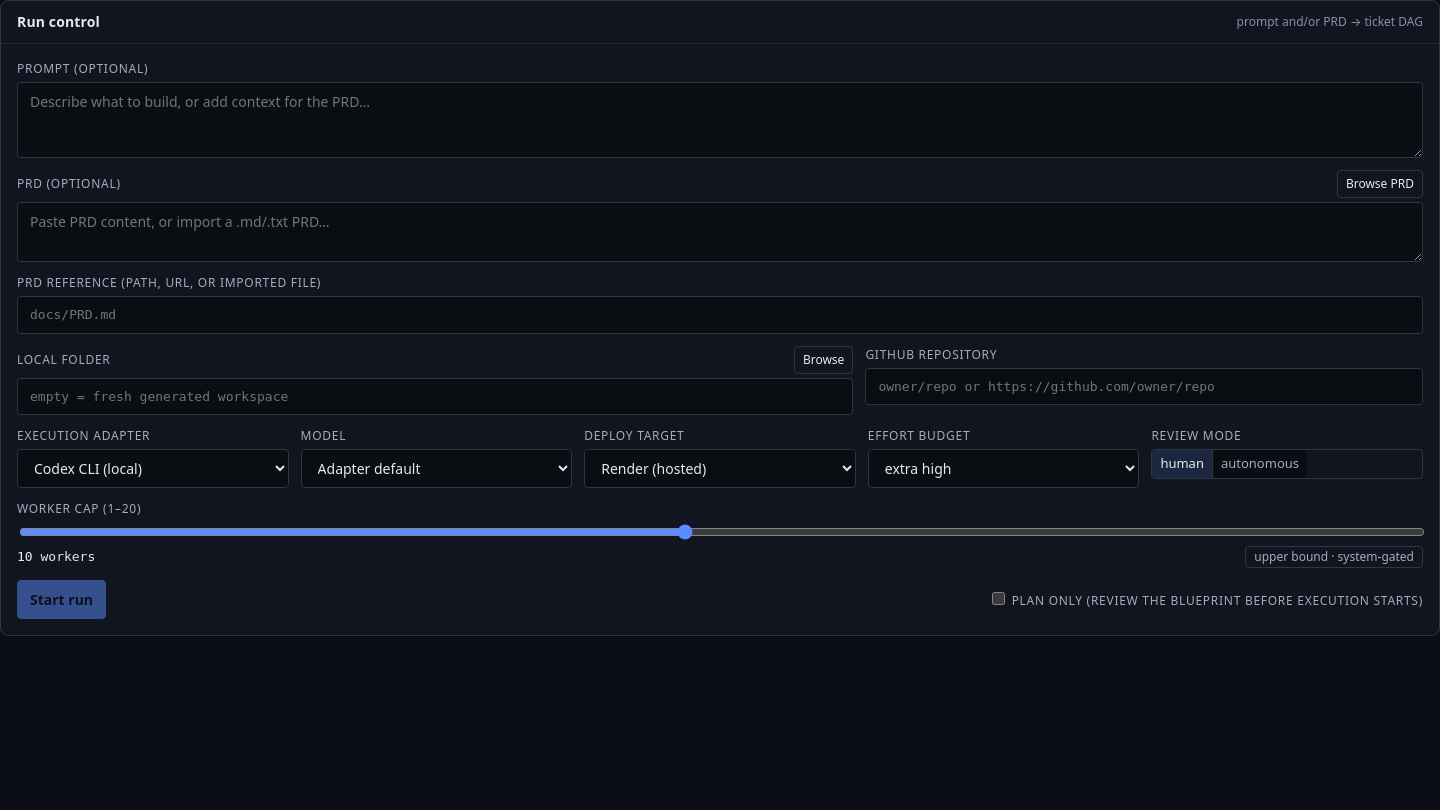
it: RunControl › blocks Start when the local folder is outside the workspace boundary
Type "build the study app" into the text box labelled "Prompt (optional)" at (720, 120), box [17,82,1423,158]
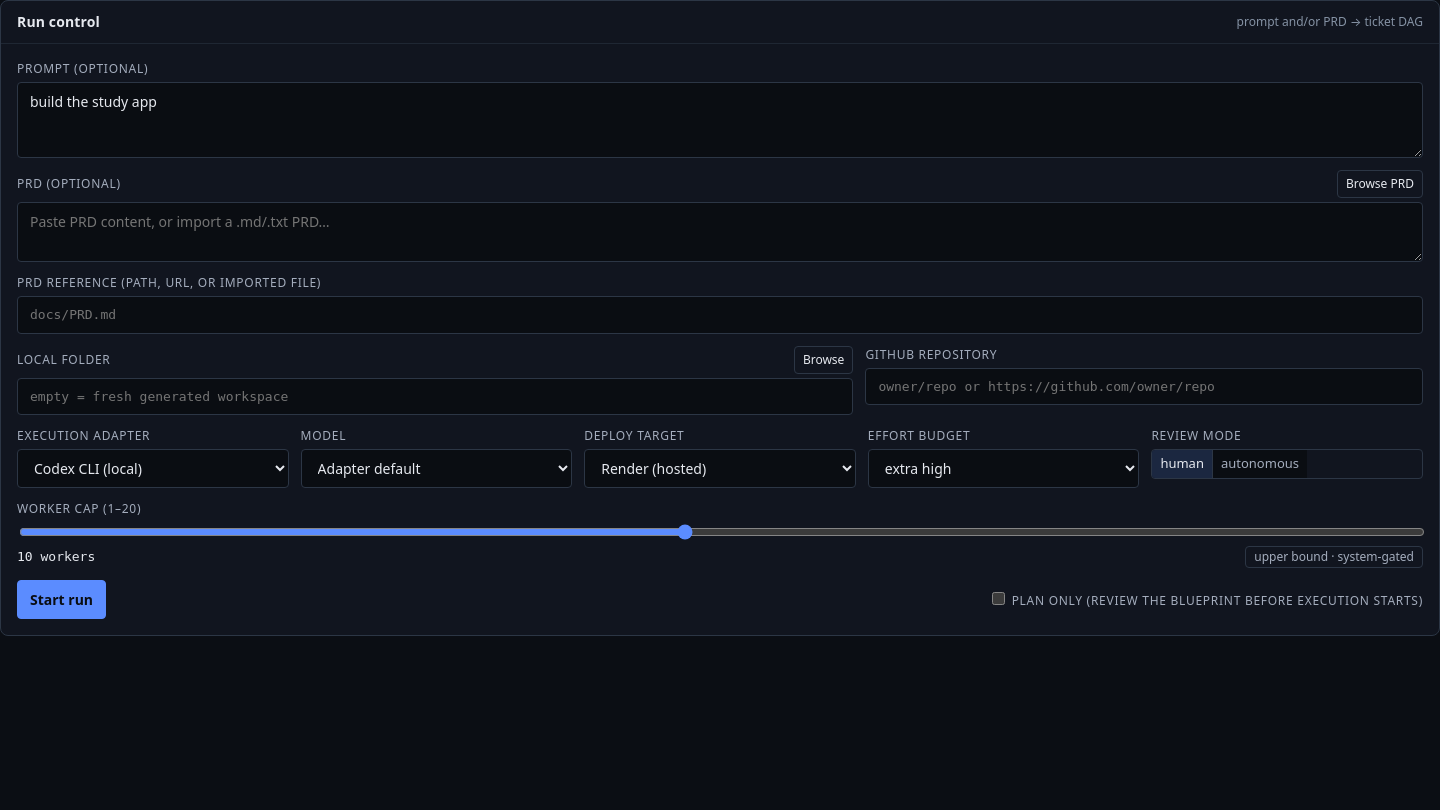
Type "C:\\Users\\op\\Documents\\GitLab\\Gaunt" into the field labelled "Local folder" at (435, 396), box [17,378,853,415]
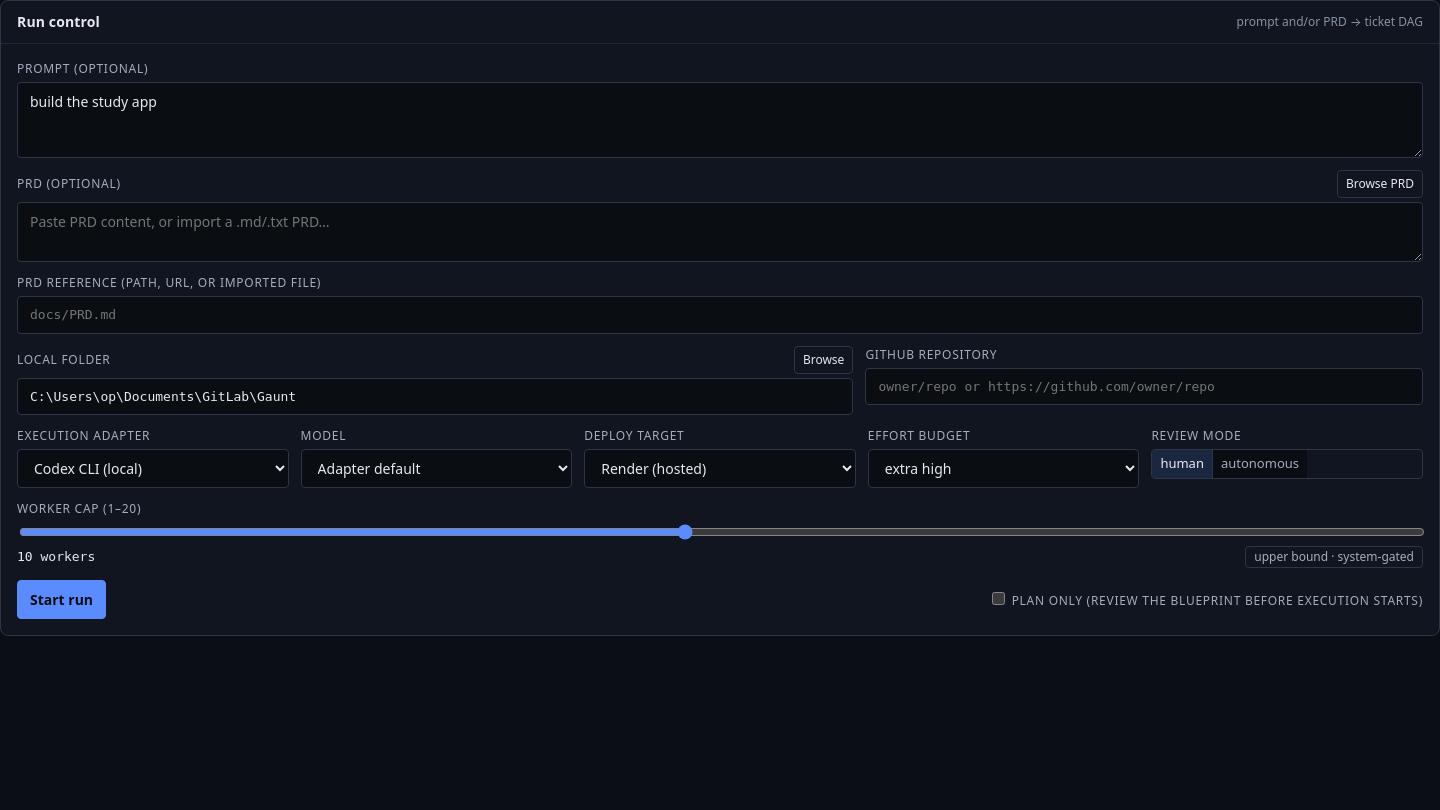
Click the button "Start run" at (62, 600), box [17,580,106,619]
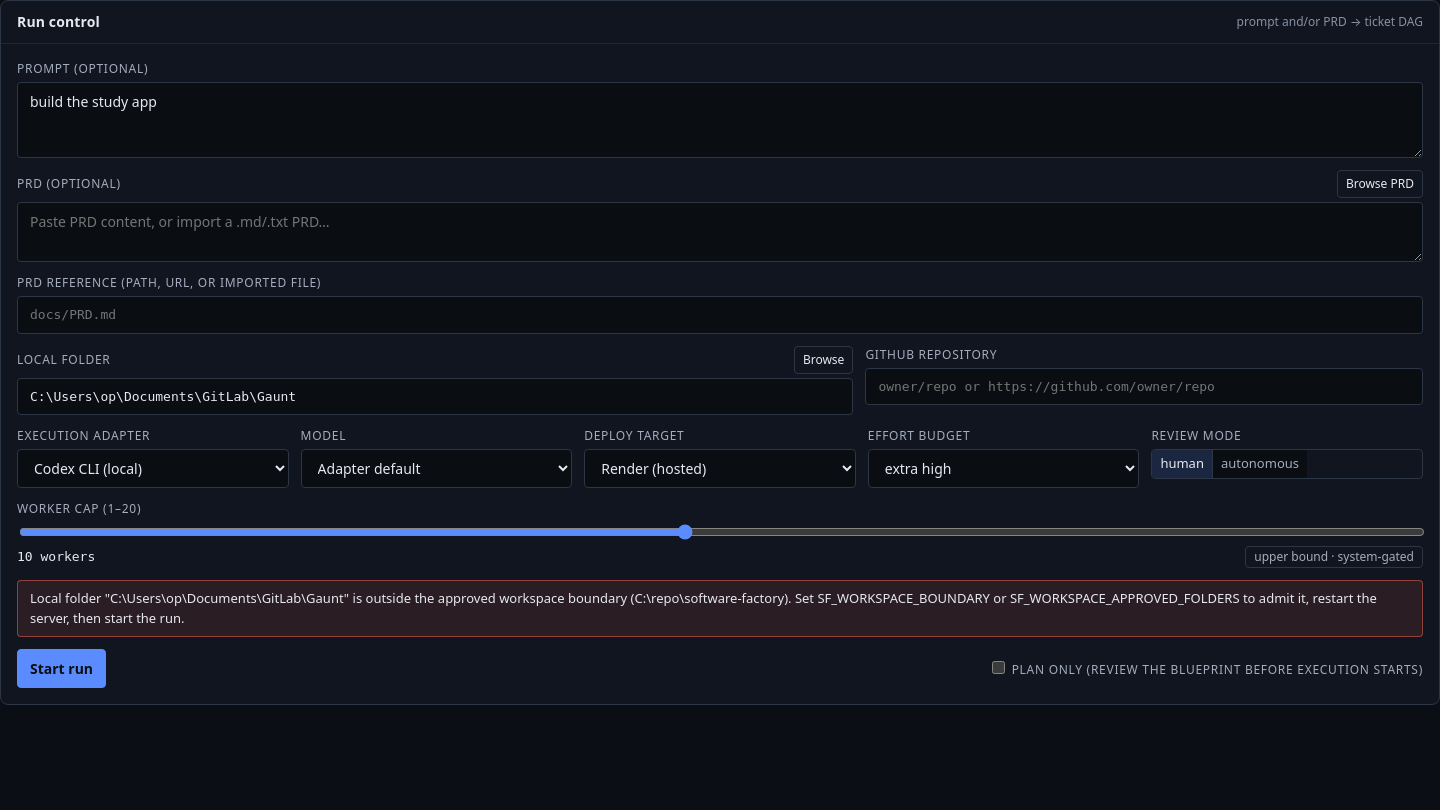
Now the text "SF_WORKSPACE_BOUNDARY" is shown, box [30,589,1377,626]
